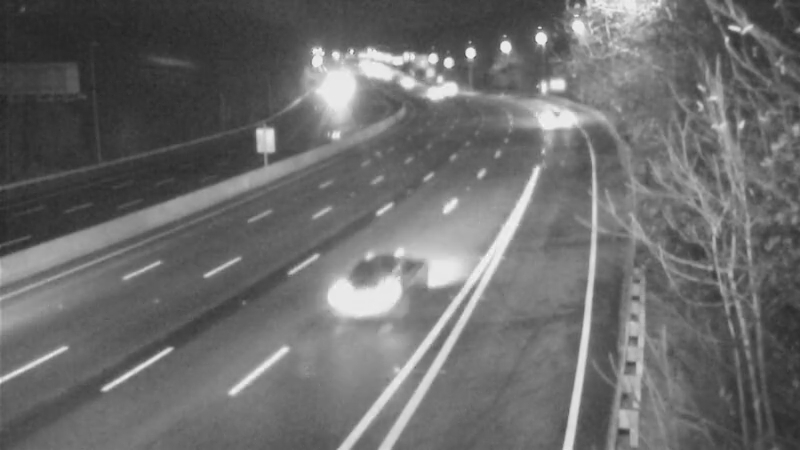vehicle: (331, 241, 411, 321), (407, 68, 457, 118), (530, 95, 580, 145)
